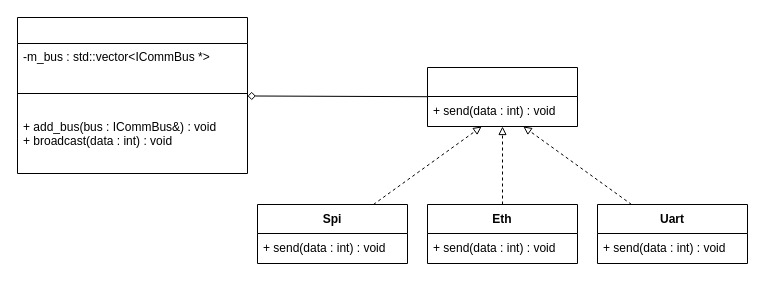
Image size: 765x281. Some labels were removed from this diagram. The shapes that lost their labels are listed below. From the top down, each one's box as (x1, y1, x2, y2) in pixels, then its label:
(16, 16, 248, 174): DataProvider
(426, 66, 578, 126): <<interface>> ICommBus
